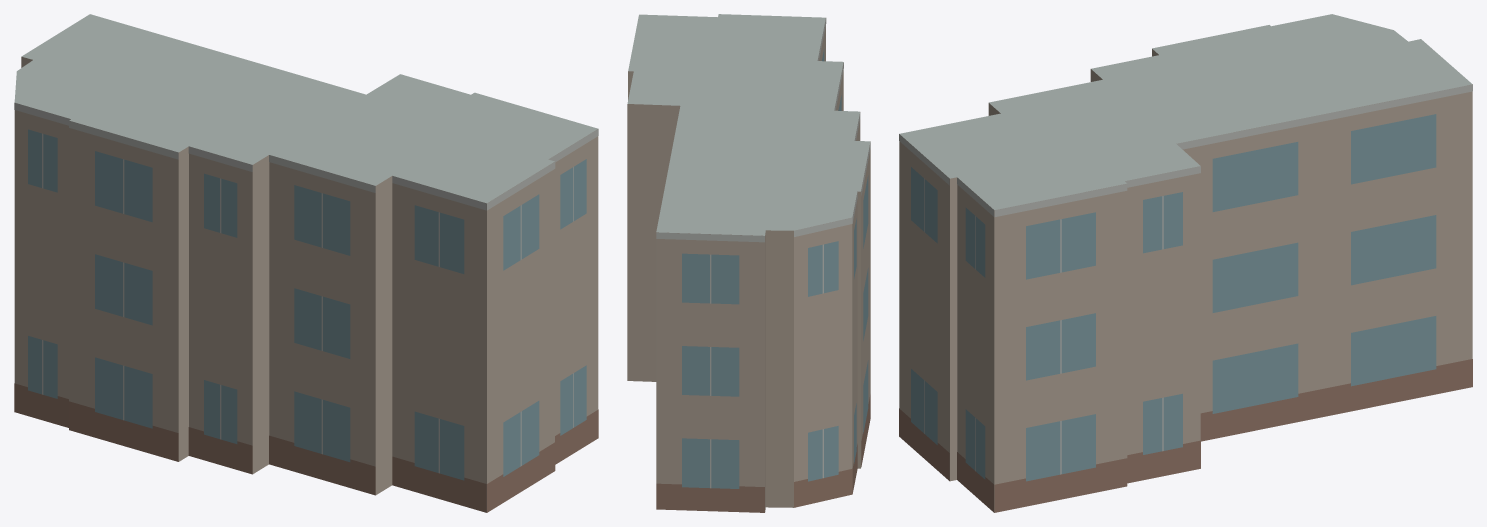
The model's file is survey-upis-33040369.glb.
The picture shows the model from 3 angles, left to right: view 1: azimuth 30°, elevation 25°; view 2: azimuth 150°, elevation 25°; view 3: azimuth 270°, elevation 25°; orthographic projection. The views are drawn at different scales.
Parts seen in each view (by area): view 1: survey-upis-33040369.tmp; view 2: survey-upis-33040369.tmp; view 3: survey-upis-33040369.tmp.
Part boxes in pixels (x1,y1,x2,y2): survey-upis-33040369.tmp: (14,14,598,512); survey-upis-33040369.tmp: (627,14,870,512); survey-upis-33040369.tmp: (899,14,1472,512).
Bounding box in the file's own units: 14.47 × 10.4 × 17.87.
